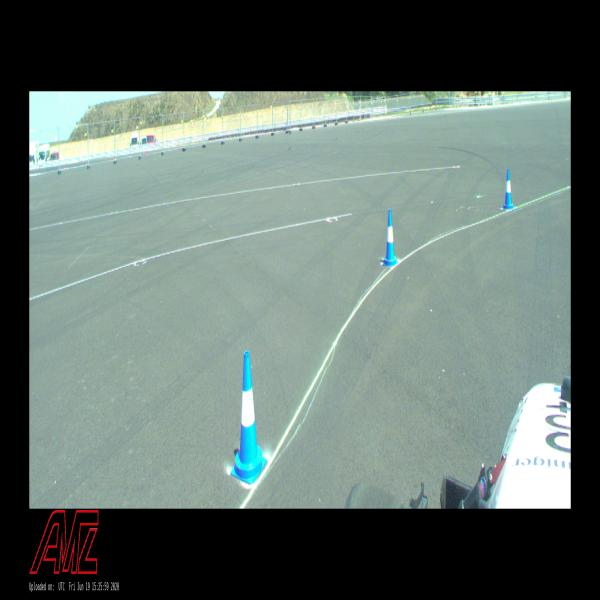blue_cone: (230, 350, 268, 485), (383, 210, 398, 268), (501, 169, 515, 211)
